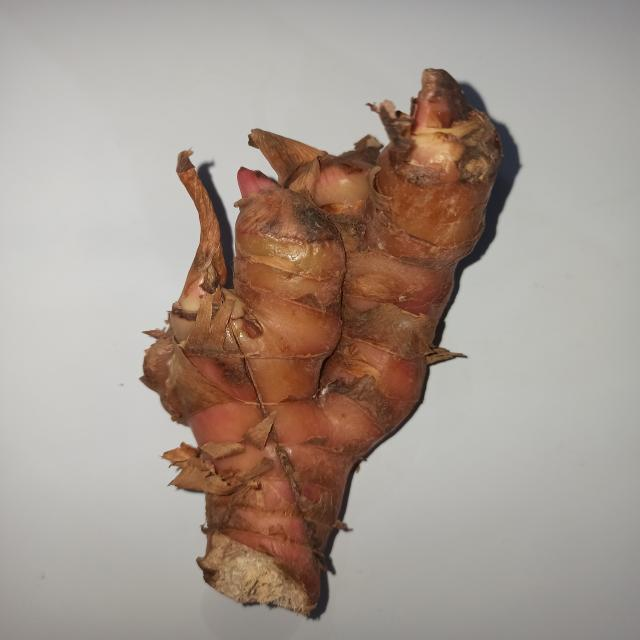ginger: (159, 108, 525, 594)
